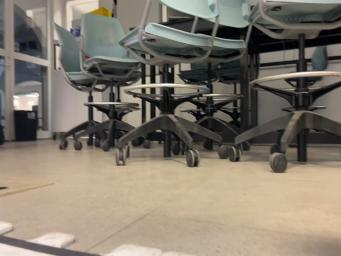street: (0, 235, 99, 256), (0, 235, 99, 256), (0, 235, 99, 256)
